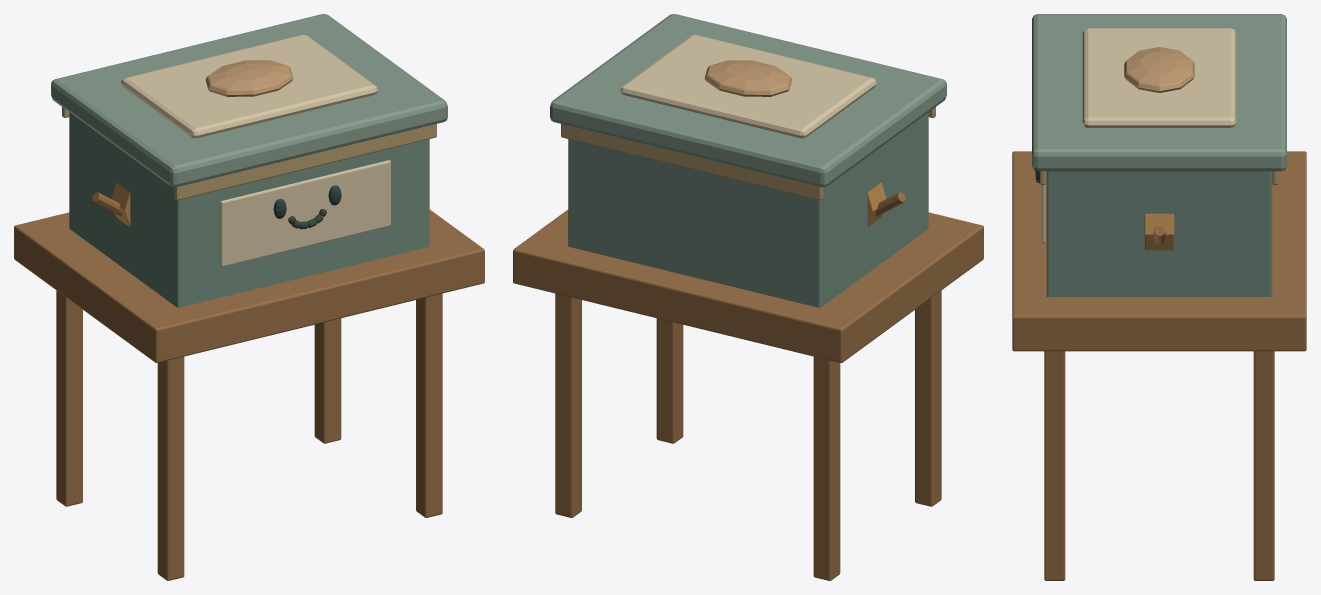
Rendered from biscuit-tin.glb.
3 views of the same model, side by side, from view 1: azimuth 30°, elevation 25°; view 2: azimuth 150°, elevation 25°; view 3: azimuth 270°, elevation 25° (orthographic). The views are drawn at different scales.
Visible parts, largest first — view 1: biscuit-tin_Delight_Mesh, delight_Lid_Mesh, delight_Cookie0_Mesh; view 2: biscuit-tin_Delight_Mesh, delight_Lid_Mesh, delight_Cookie0_Mesh; view 3: biscuit-tin_Delight_Mesh, delight_Lid_Mesh, delight_Cookie2_Mesh.
Part boxes in pixels (x1,y1,x2,y2): biscuit-tin_Delight_Mesh: (14,107,484,580); delight_Lid_Mesh: (51,14,447,187); delight_Cookie0_Mesh: (92,182,130,227); biscuit-tin_Delight_Mesh: (513,107,983,580); delight_Lid_Mesh: (550,14,946,187); delight_Cookie0_Mesh: (867,182,905,227); biscuit-tin_Delight_Mesh: (1012,151,1306,580); delight_Lid_Mesh: (1032,14,1286,171); delight_Cookie2_Mesh: (1144,213,1174,250).
Size of the model in its own units: 1.2 by 1.52 by 0.9.
